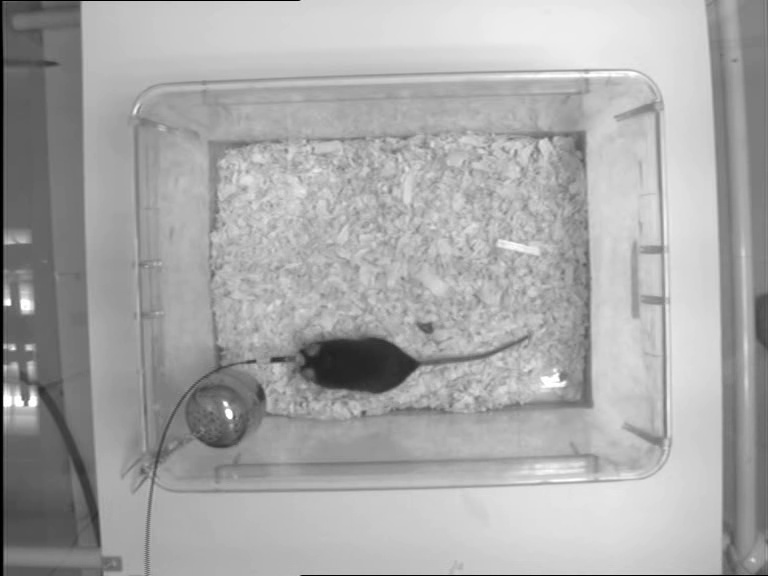mice: (289, 327, 530, 396)
